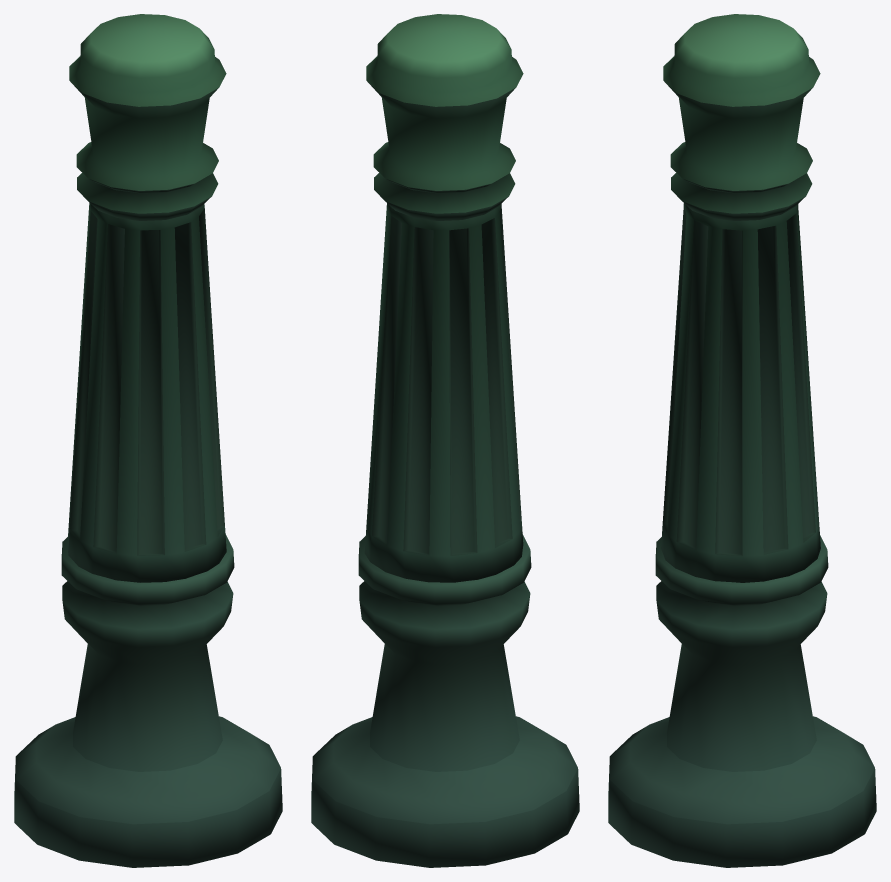
File: furnishings-barriers-ornatebollard_v1.glb
3 renders of one model, left to right at view 1: azimuth 30°, elevation 25°; view 2: azimuth 150°, elevation 25°; view 3: azimuth 270°, elevation 25°, orthographic.
Visible parts, largest first — view 1: OrnateBollard.001; view 2: OrnateBollard.001; view 3: OrnateBollard.001.
Boxes of the visible parts, x1,y1,x2,y2 form: OrnateBollard.001: (14, 14, 282, 867); OrnateBollard.001: (311, 14, 579, 867); OrnateBollard.001: (608, 14, 876, 867).
Size of the model in its own units: 0.2476 by 0.788 by 0.2462.
